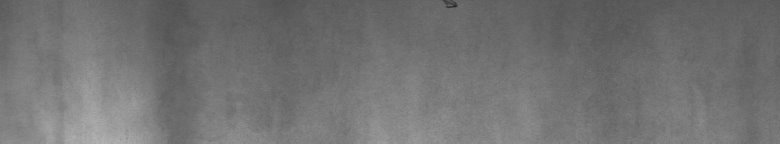fi: (444, 4, 461, 15)
